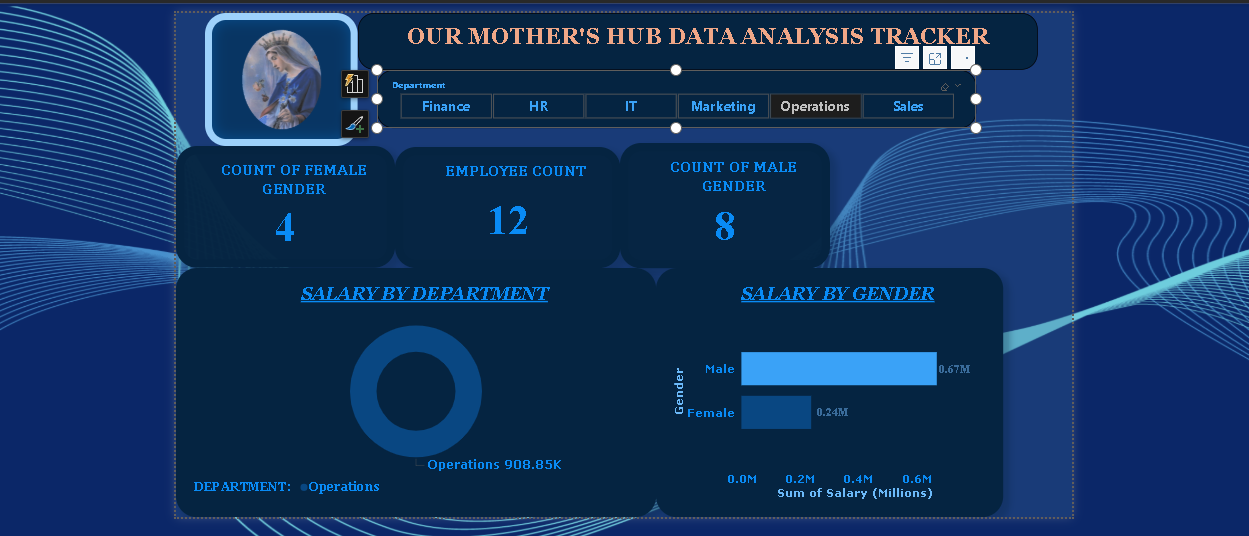

What the dashboard file says about the page in this screenshot:
{"tool":"powerbi","page":{"name":"Page REPORT","canvas":[1280,720],"ordinal":0},"visuals":[{"type":"card","title":"EMPLOYEE COUNT","fields":{"Values":["HR_Employee_Data.Measure 2"]},"box":[312.9,190,321.4,174.3],"z":0},{"type":"card","title":" COUNT OF MALE GENDER","fields":{"Values":["Count(HR_Employee_Data)"]},"box":[634.3,185.7,300,178.6],"z":1000},{"type":"card","title":" COUNT OF FEMALE GENDER","fields":{"Values":["Count(HR_Employee_Data)"]},"box":[0,190,312.9,174.3],"z":2000},{"type":"textbox","box":[260,0,971.4,81.4],"z":3000},{"type":"image","box":[41.7,0,218.3,190],"z":4000},{"type":"donutChart","title":"SALARY BY DEPARTMENT","fields":{"Y":["Sum(HR_Employee_Data.Salary)"],"Category":["HR_Employee_Data.Department"]},"box":[0,364.3,685.7,355.7],"z":5000},{"type":"clusteredBarChart","title":"SALARY BY GENDER","fields":{"Y":["Sum(HR_Employee_Data.Salary)"],"Category":["HR_Employee_Data.Gender"]},"box":[685.7,364.3,495.7,355.7],"z":6000},{"type":"slicer","fields":{"Values":["HR_Employee_Data.Department"]},"box":[287.1,81.4,855.7,82.9],"z":7000}]}

Visuals, with their boxes on the page's 1280x720 design canvas (x1, y1, x2, y2). These are canvas units, not pixel positions in the 1249x536 screenshot, which may show the page scaled, cropped or inside an application window:
"EMPLOYEE COUNT" card: detection(313, 190, 634, 364)
" COUNT OF MALE GENDER" card: detection(634, 186, 934, 364)
" COUNT OF FEMALE GENDER" card: detection(0, 190, 313, 364)
textbox: detection(260, 0, 1231, 81)
image: detection(42, 0, 260, 190)
"SALARY BY DEPARTMENT" donutChart: detection(0, 364, 686, 720)
"SALARY BY GENDER" clusteredBarChart: detection(686, 364, 1181, 720)
slicer - HR_Employee_Data.Department: detection(287, 81, 1143, 164)
